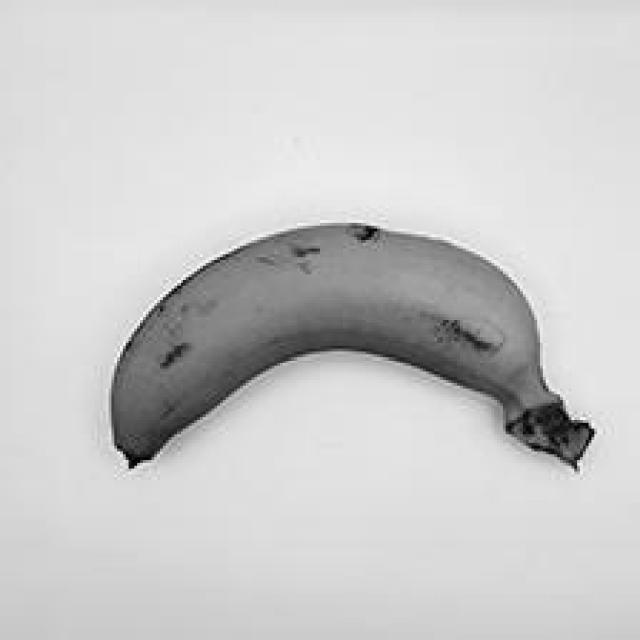Raw: (81, 206, 606, 516)
